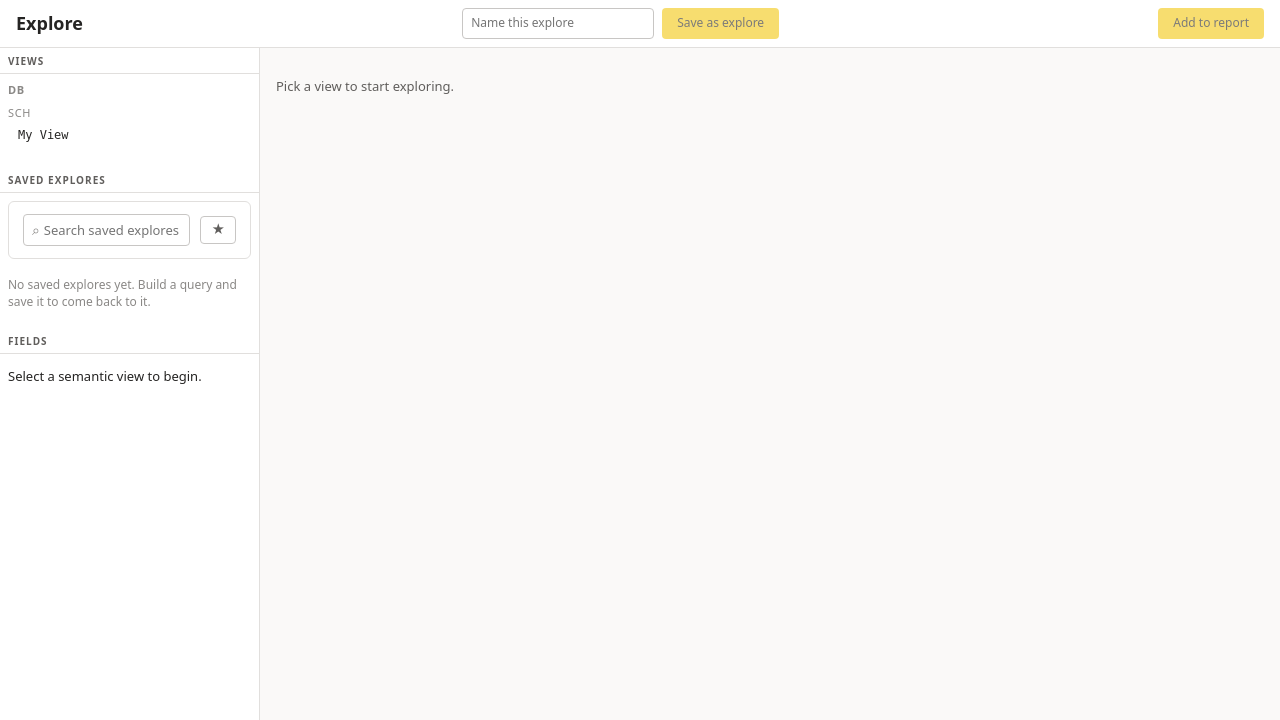
Scenario: ExplorerPage › encodes database, schema, and view name in the describe-view request
Click the button "My View" at (130, 136), box left=10, top=123, right=251, bottom=149
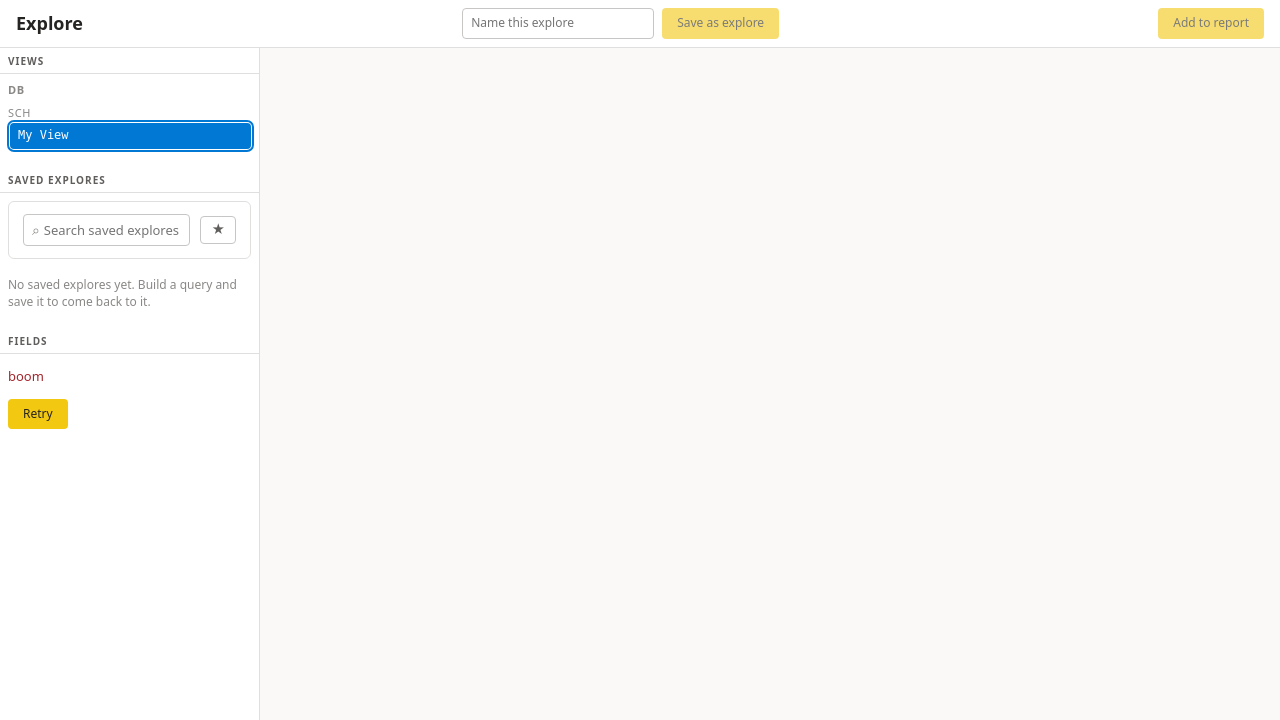
Result: the message "boom Retry" is shown at left=8, top=367, right=68, bottom=429
